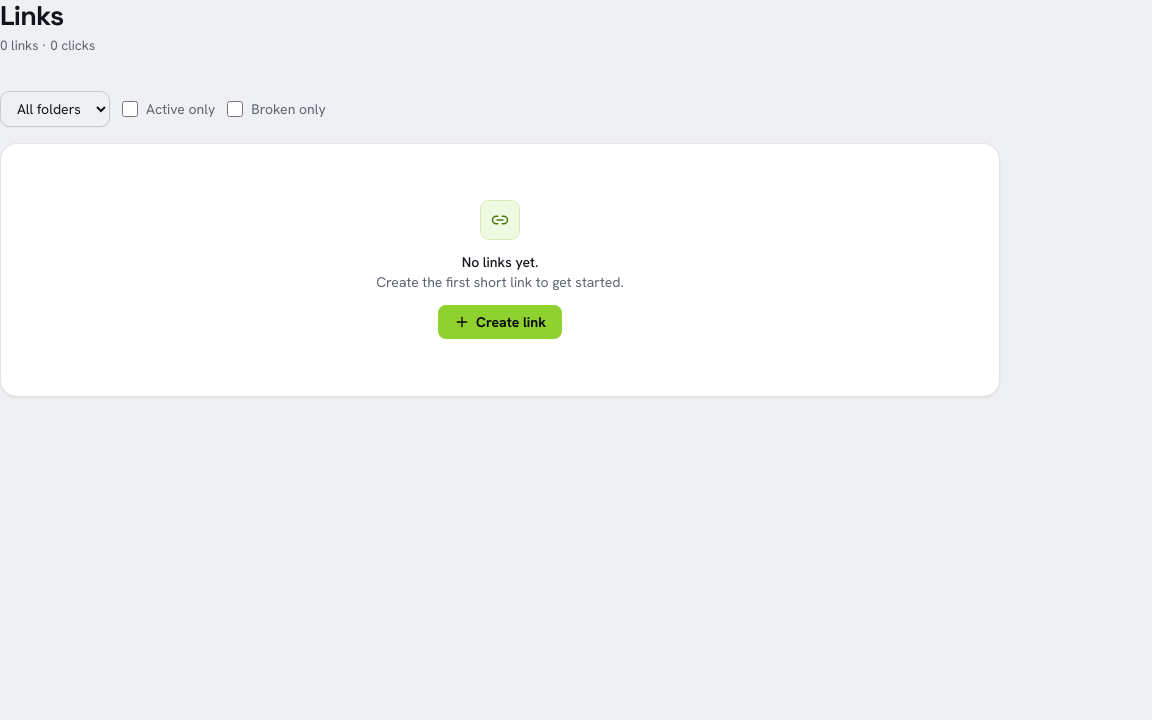
it: Links › empty state, whose CTA opens the create dialog (the PageHeader's duplicate button was removed)
Expected: the text "No links yet." is shown, [462, 253, 538, 271]
Note: Exactly one "Create link" affordance remains on the page (the empty-state CTA).
Click the button "Create link": x=500, y=322 [437, 304, 563, 340]
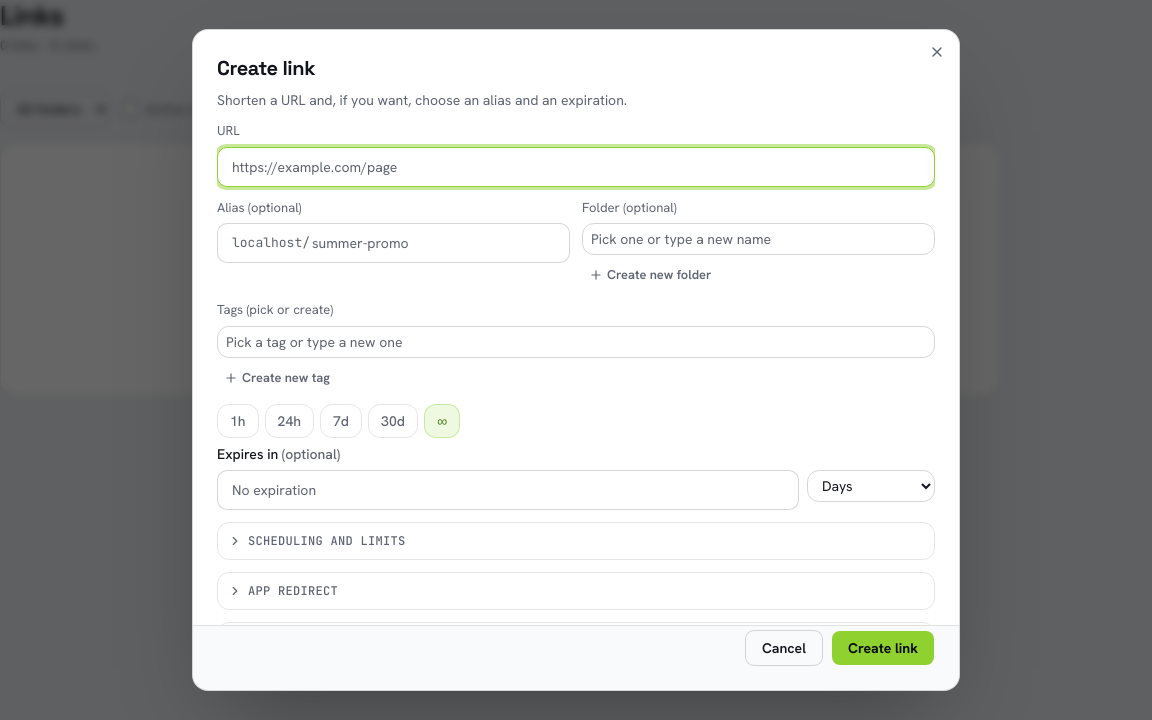
Result: the dialog "Create link" is shown
